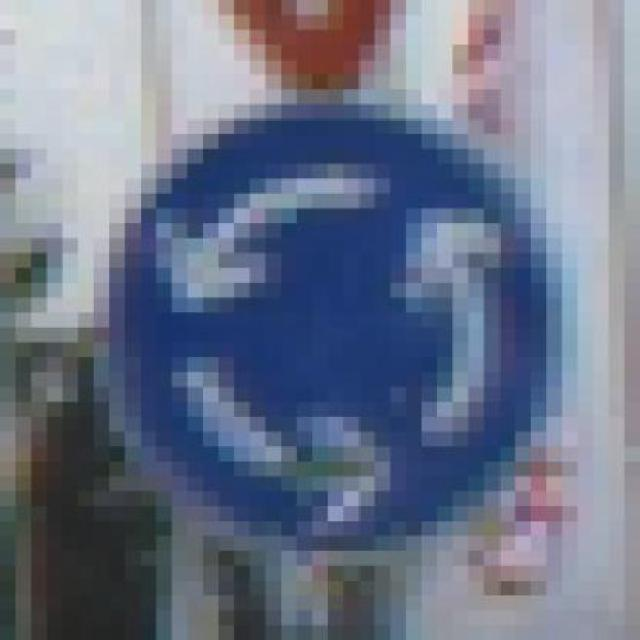Round-About: (47, 74, 578, 580)
